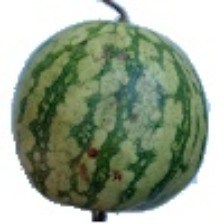watermelon: (10, 21, 181, 193)
